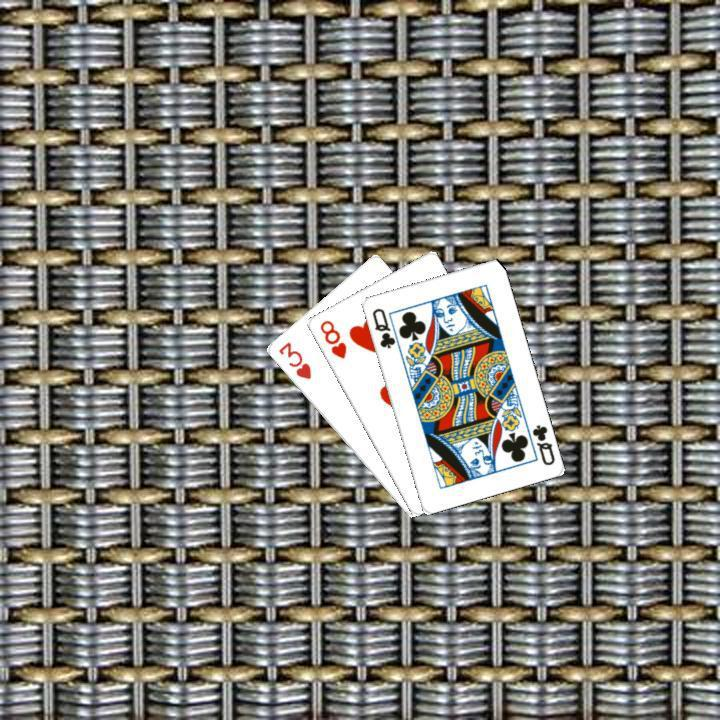3: (274, 337, 313, 381)
8: (315, 315, 348, 361)
Q: (367, 303, 397, 350), (527, 420, 557, 467)
